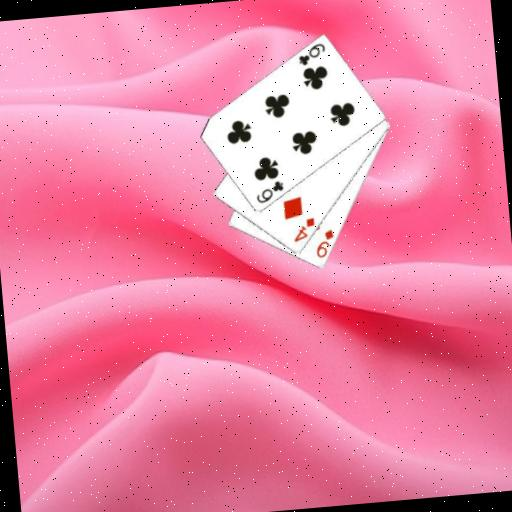4D: (289, 215, 318, 245)
6C: (252, 177, 287, 205), (294, 40, 328, 68)
9D: (311, 226, 337, 260)
